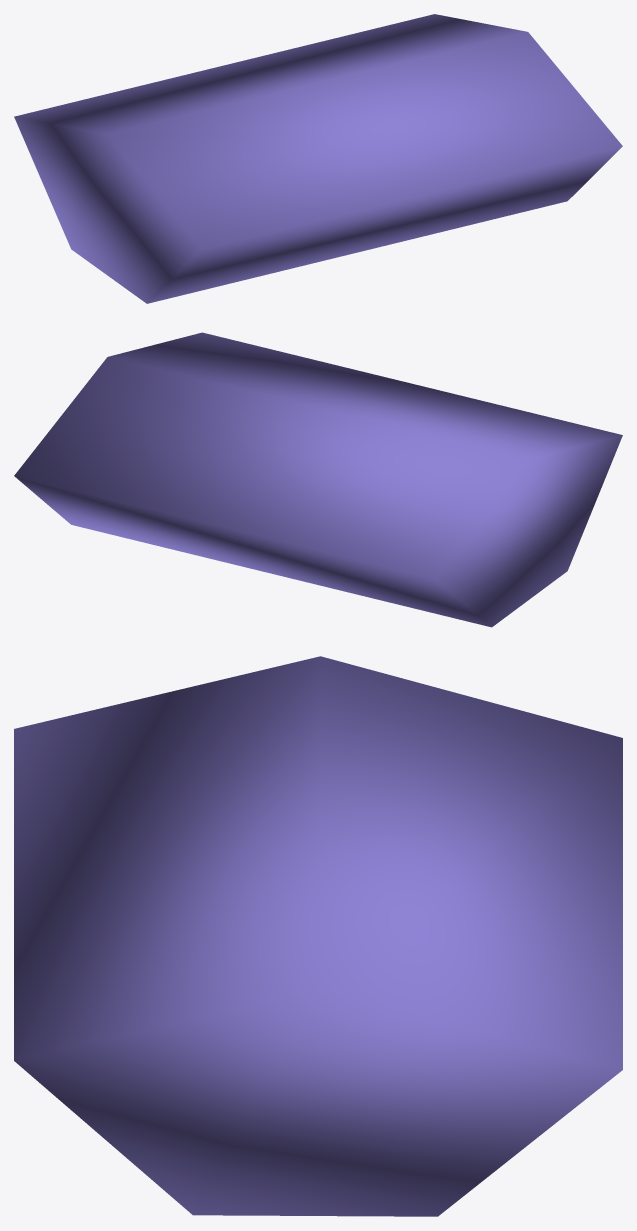
File: Cactus_Leafy_05_SPR_COL.fbx
3 renders of one model, top to bottom at view 1: azimuth 30°, elevation 25°; view 2: azimuth 150°, elevation 25°; view 3: azimuth 270°, elevation 25°, orthographic. The views are drawn at different scales.
Visible parts, largest first — view 1: Cactus_Leafy_05_SPR_COL; view 2: Cactus_Leafy_05_SPR_COL; view 3: Cactus_Leafy_05_SPR_COL.
Part boxes in pixels (x1,y1,x2,y2): Cactus_Leafy_05_SPR_COL: (14, 14, 622, 303); Cactus_Leafy_05_SPR_COL: (14, 332, 622, 627); Cactus_Leafy_05_SPR_COL: (14, 656, 622, 1216).
Size of the model in its own units: 66.62 by 21.39 by 51.66.
